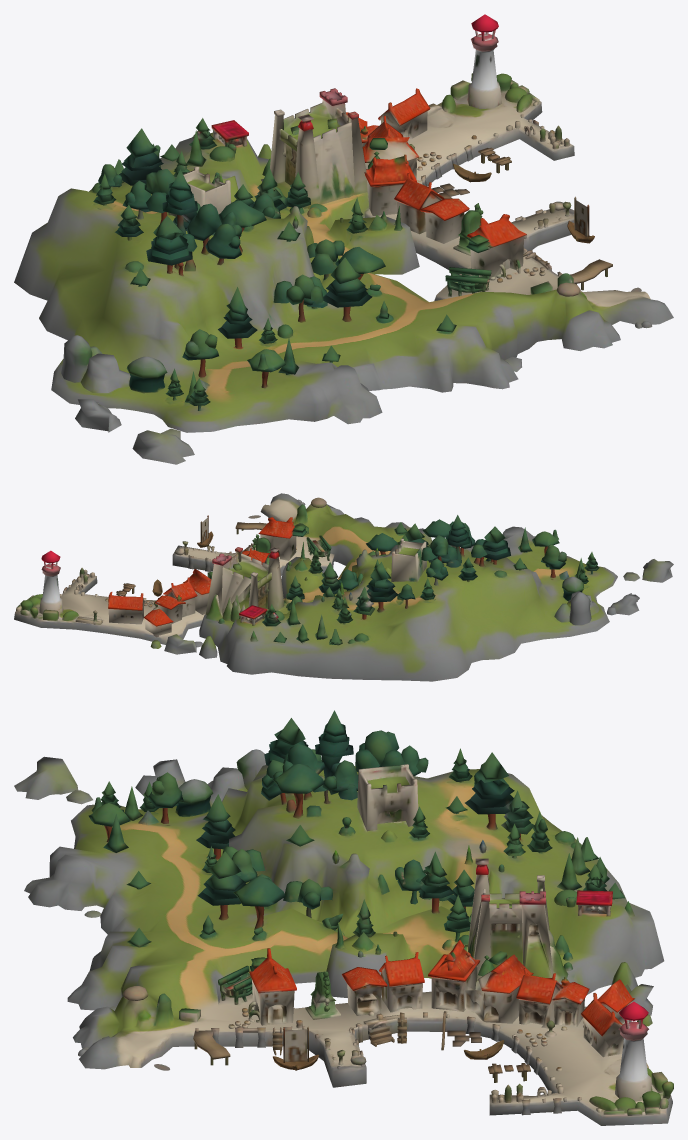
The model's file is isle_05_p2.glb.
The picture shows the model from 3 angles, top to bottom: view 1: azimuth 30°, elevation 25°; view 2: azimuth 150°, elevation 25°; view 3: azimuth 270°, elevation 25°; orthographic projection. The views are drawn at different scales.
Parts seen in each view (by area): view 1: tripo_node_2bb134fd-9a1e-48b8-a786-9c7420482be0; view 2: tripo_node_2bb134fd-9a1e-48b8-a786-9c7420482be0; view 3: tripo_node_2bb134fd-9a1e-48b8-a786-9c7420482be0.
Part boxes in pixels (box(x1,y1,x2,y2)): tripo_node_2bb134fd-9a1e-48b8-a786-9c7420482be0: box(14, 14, 673, 464); tripo_node_2bb134fd-9a1e-48b8-a786-9c7420482be0: box(14, 493, 673, 681); tripo_node_2bb134fd-9a1e-48b8-a786-9c7420482be0: box(14, 710, 673, 1125).
Size of the model in its own units: 0.9995 by 0.2515 by 0.8062.
1 material, 1 textured.
